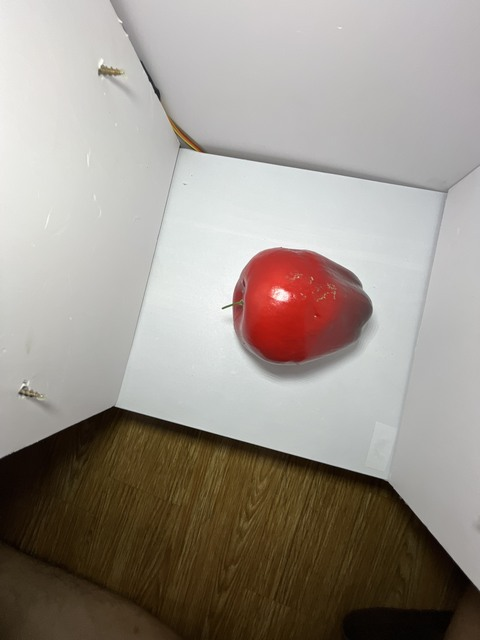Tao: (227, 245, 375, 370)
